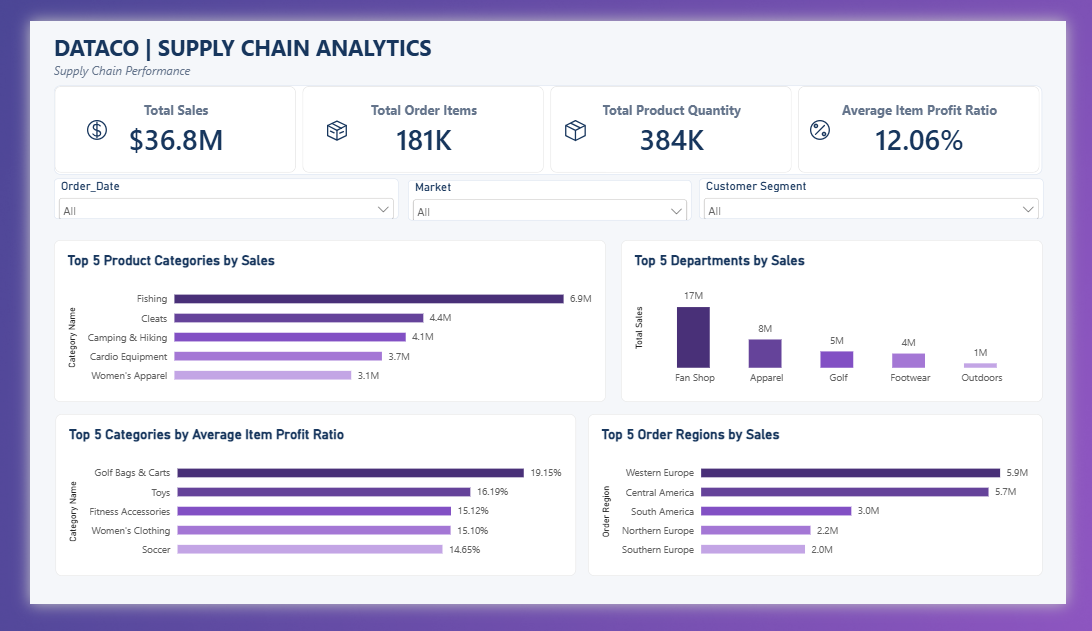

The dashboard page shown, as its layout file describes it:
{"tool":"powerbi","page":{"name":"Supply Chain Performance","canvas":[1280,720],"ordinal":2},"visuals":[{"type":"cardVisual","fields":{"Data":["Measure.Total Sales","Measure.Total Order Items","Measure.Total Product Quantity","Measure.Average Item Profit Ratio"]},"box":[30,80.2,1220,109.8],"z":0,"group":"g1"},{"type":"clusteredBarChart","title":"Top 5 Product Categories by Sales","fields":{"Category":["DataCo_SupplyChain.Category Name"],"Y":["Measure.Total Sales"]},"box":[29.7,270.4,681.5,200.1],"z":1000},{"type":"textbox","box":[30,15,900,65.2],"z":2000,"group":"g1"},{"type":"slicer","fields":{"Values":["DataCo_SupplyChain.Order_Date"]},"box":[29.7,195,425,50],"z":3000},{"type":"slicer","fields":{"Values":["DataCo_SupplyChain.Market"]},"box":[465.8,195.4,350,50],"z":4000},{"type":"slicer","fields":{"Values":["DataCo_SupplyChain.Customer Segment"]},"box":[825.3,195,425.1,50],"z":5000},{"type":"clusteredColumnChart","title":"Top 5 Departments by Sales","fields":{"Category":["DataCo_SupplyChain.Department Name"],"Y":["Measure.Total Sales"]},"box":[729.9,270.4,520.5,200.1],"z":6000},{"type":"clusteredBarChart","title":"Top 5 Categories by Average Item Profit Ratio","fields":{"Category":["DataCo_SupplyChain.Category Name"],"Y":["Measure.Average Item Profit Ratio"]},"box":[31.3,484.5,642.4,200.1],"z":7000},{"type":"clusteredBarChart","title":"Top 5 Order Regions by Sales","fields":{"Category":["DataCo_SupplyChain.Order Region"],"Y":["Sum(DataCo_SupplyChain.Sales)"]},"box":[689.3,484.5,561.1,200.1],"z":8000},{"type":"image","box":[67.2,118.8,32,32],"z":9000,"group":"g1"},{"type":"image","box":[364.2,118.8,32,32],"z":10000,"group":"g1"},{"type":"image","box":[658,118.8,32,32],"z":11000,"group":"g1"},{"type":"image","box":[959.7,118.8,32,32],"z":12000,"group":"g1"},{"type":"group","id":"g1","title":"Group 1","box":[30,15,1220,175],"z":12001}]}

Visuals, with their boxes in screenshot pixels (x1, y1, x2, y2), scaled from the page's 1280x720 canvas onto the 1092x631 screenshot:
cardVisual - Measure.Total Sales x Measure.Total Order Items: <box>26,70,1066,167</box>
"Top 5 Product Categories by Sales" clusteredBarChart: <box>25,237,607,412</box>
textbox: <box>26,13,793,70</box>
slicer - DataCo_SupplyChain.Order_Date: <box>25,171,388,215</box>
slicer - DataCo_SupplyChain.Market: <box>397,171,696,215</box>
slicer - DataCo_SupplyChain.Customer Segment: <box>704,171,1067,215</box>
"Top 5 Departments by Sales" clusteredColumnChart: <box>623,237,1067,412</box>
"Top 5 Categories by Average Item Profit Ratio" clusteredBarChart: <box>27,425,575,600</box>
"Top 5 Order Regions by Sales" clusteredBarChart: <box>588,425,1067,600</box>
image: <box>57,104,85,132</box>
image: <box>311,104,338,132</box>
image: <box>561,104,589,132</box>
image: <box>819,104,846,132</box>
"Group 1" group: <box>26,13,1066,167</box>
